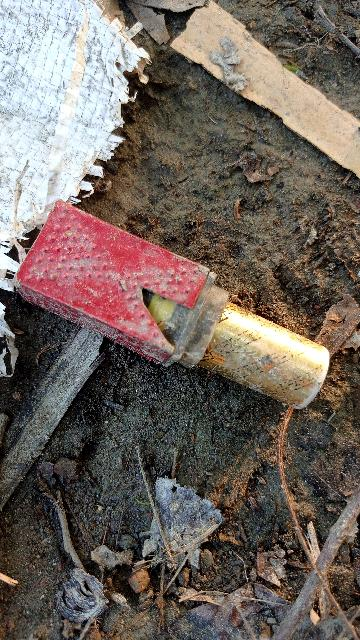hardplastic: (5, 193, 352, 421)
